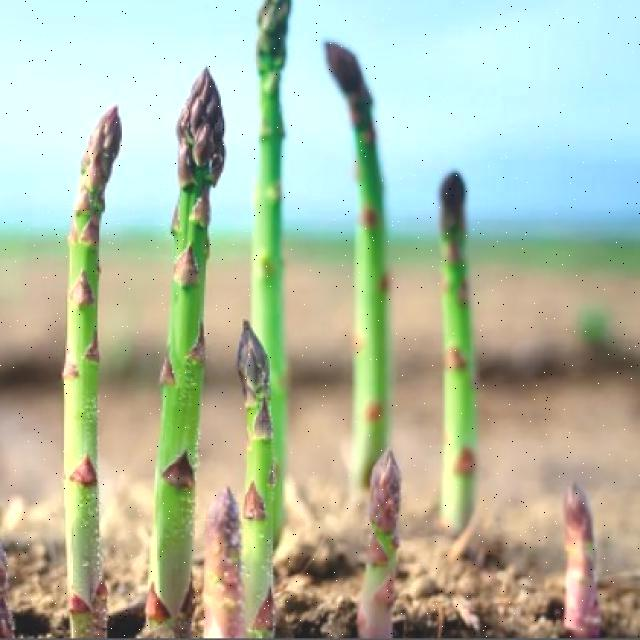aspargus: (152, 70, 226, 618)
